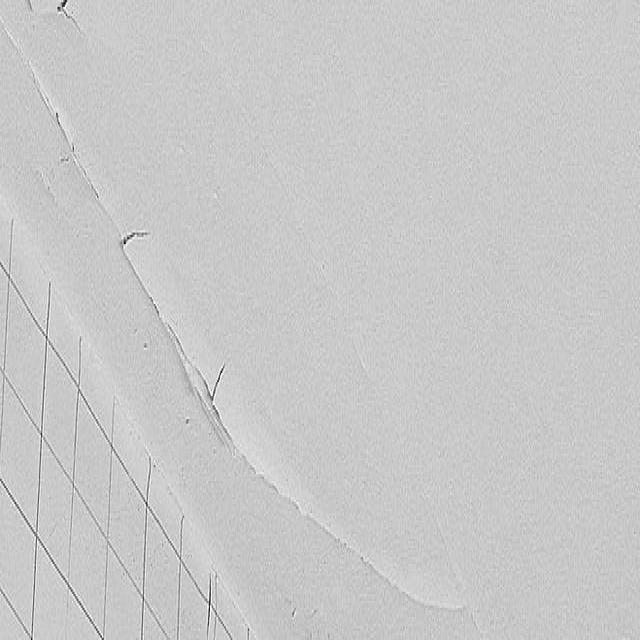peeling paint: (0, 0, 278, 513)
